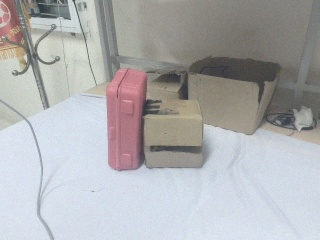box: (188, 57, 280, 134), (144, 100, 203, 168), (1, 1, 25, 62)
